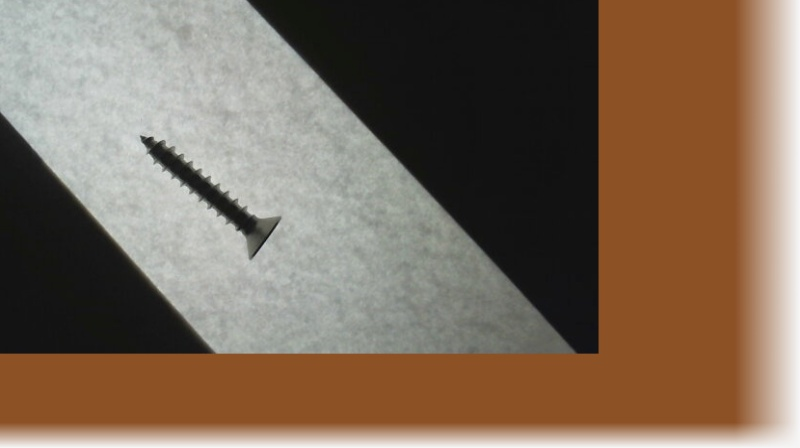S001: (135, 130, 283, 260)
